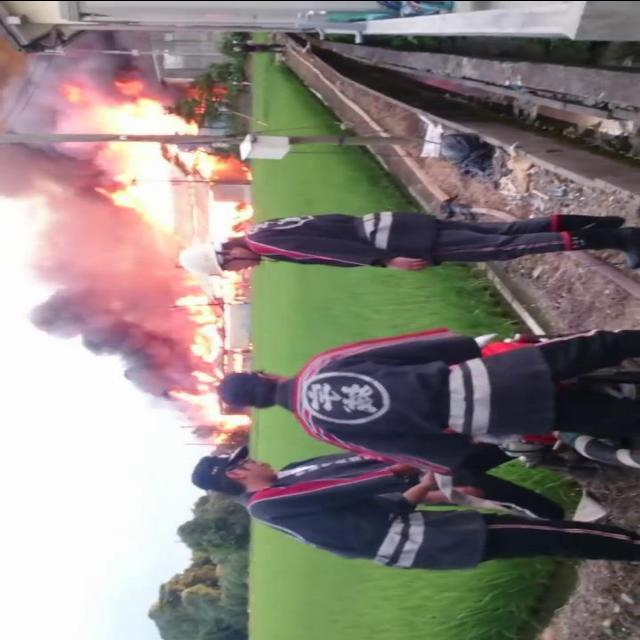Fire: (101, 140, 255, 300), (90, 87, 194, 135), (168, 390, 247, 442), (173, 297, 223, 363), (192, 369, 223, 383)
